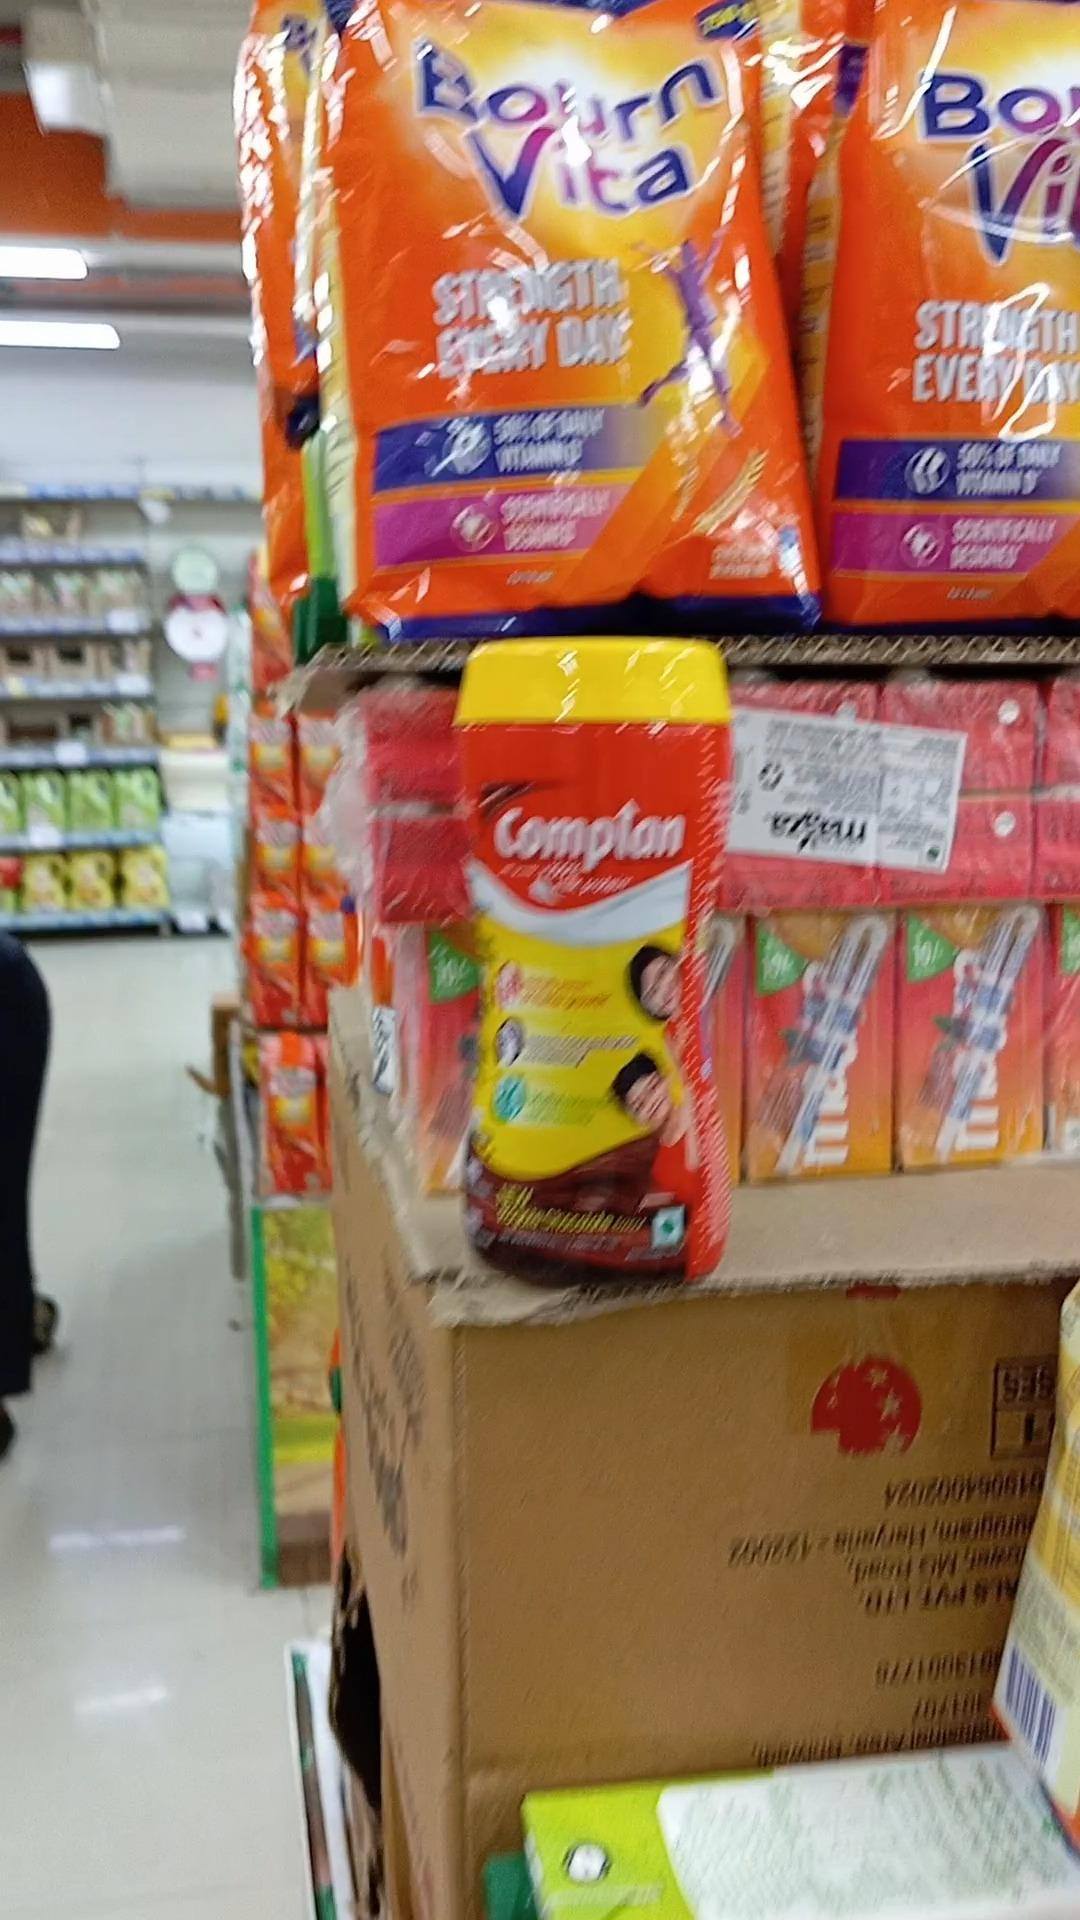COMPLAN_CHOCOLATE_200_GMS_JAR: (455, 636, 716, 1283)
